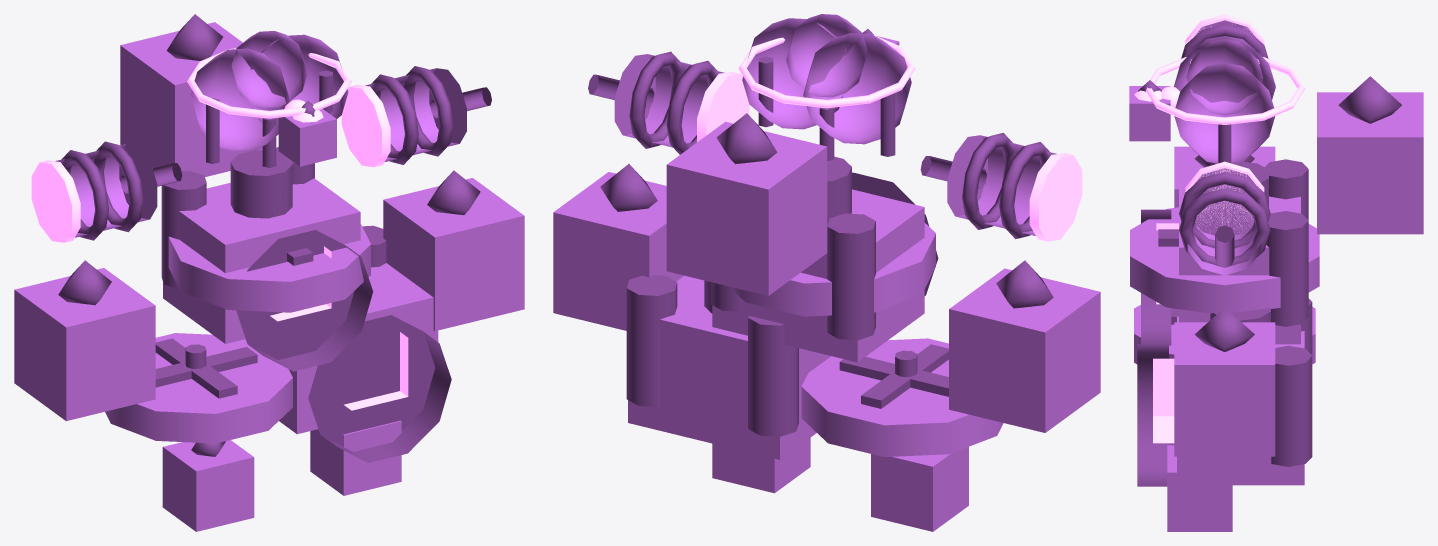
The model's file is golem_091.glb.
3 views of the same model, side by side, from view 1: azimuth 30°, elevation 25°; view 2: azimuth 150°, elevation 25°; view 3: azimuth 270°, elevation 25° (orthographic). The views are drawn at different scales.
Parts seen in each view (by area): view 1: Body, Detail, Glow; view 2: Body, Detail, Glow; view 3: Body, Detail, Glow.
Boxes of the visible parts, x1,y1,x2,y2 form: Body: (14,22,524,531); Detail: (58,14,491,462); Glow: (31,48,408,410); Body: (553,14,1100,531); Detail: (588,29,1053,436); Glow: (697,35,1082,241); Body: (1129,20,1423,531); Detail: (1137,24,1401,486); Glow: (1134,14,1305,443).
Size of the model in its own units: 1.53 by 1.44 by 0.8715.
